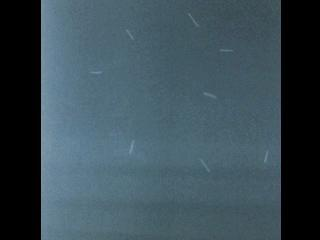scratch: (192, 151, 215, 177), (184, 8, 203, 34), (196, 85, 225, 102), (120, 23, 140, 47), (214, 42, 240, 59), (124, 136, 142, 158), (257, 147, 274, 168), (88, 65, 106, 81)
